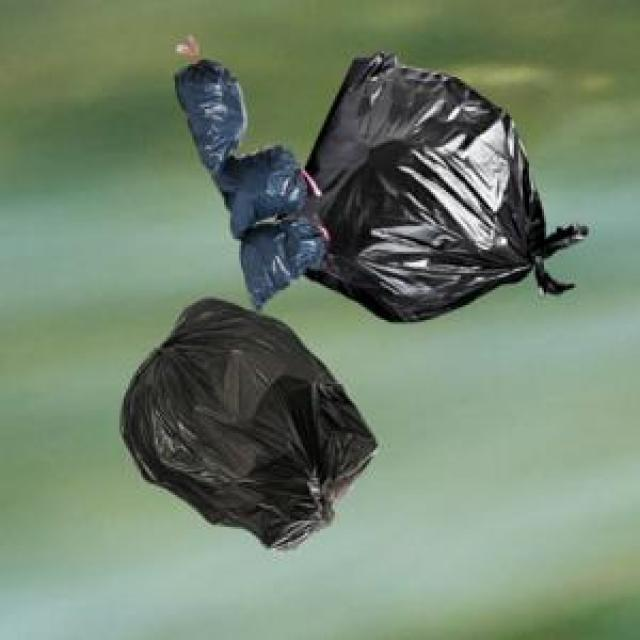Vinyl: (298, 54, 586, 316), (120, 298, 378, 546), (162, 45, 252, 163)
